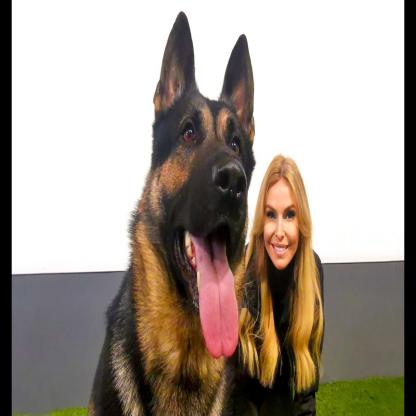dog: (88, 14, 256, 416)
